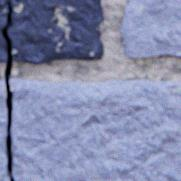brick: (120, 0, 180, 56)
broken_brick: (10, 77, 180, 180), (8, 0, 103, 63), (0, 79, 9, 180), (0, 0, 8, 29), (0, 32, 7, 61)
crack: (0, 0, 15, 180)
